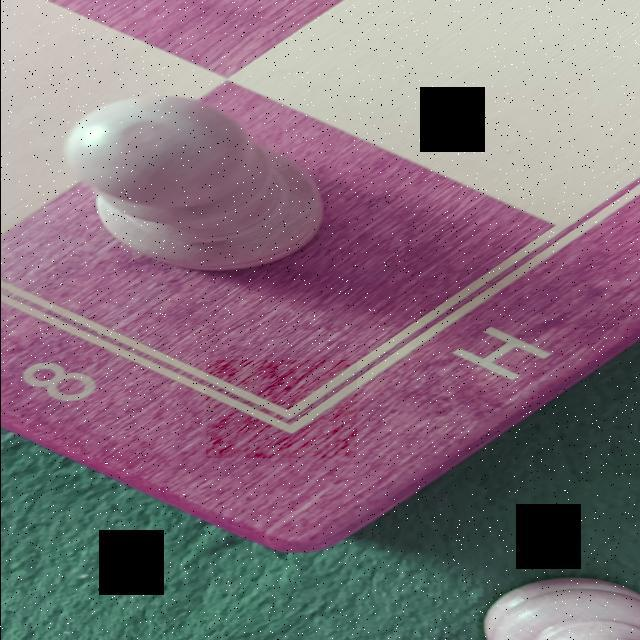chess-table-corners: (205, 360, 356, 458)
